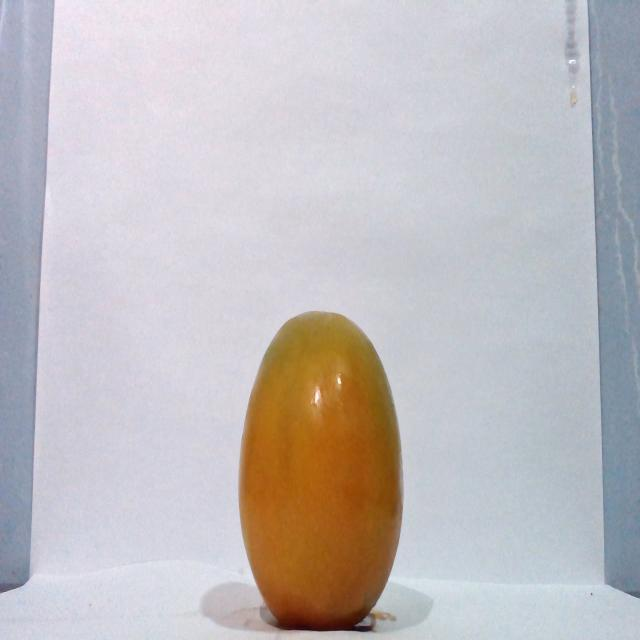Red: (236, 309, 404, 630)
